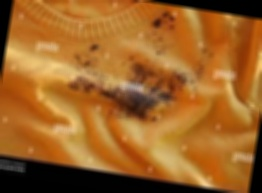earth: (102, 81, 172, 122), (127, 63, 188, 92), (73, 43, 98, 71), (68, 75, 96, 94), (152, 11, 177, 30)
